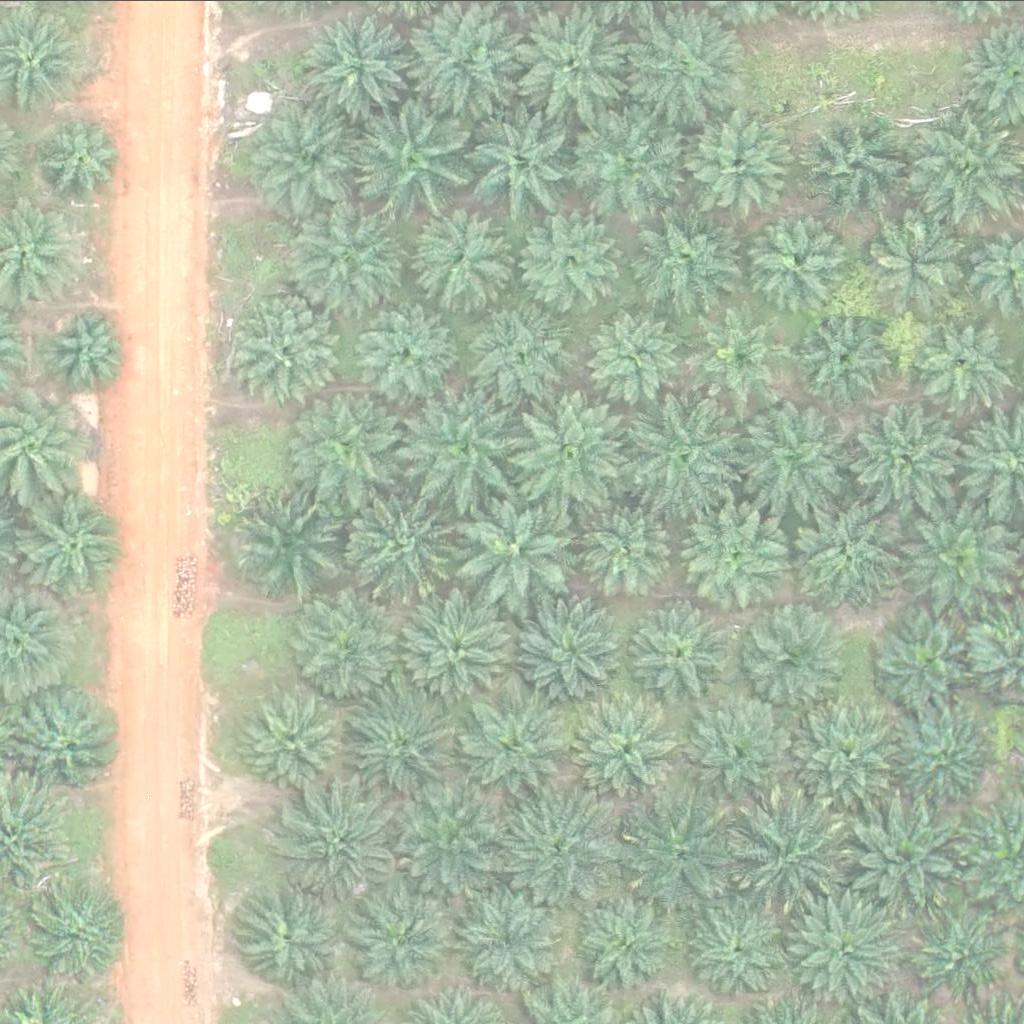Kelapa_Sawit: (302, 5, 416, 118), (511, 5, 625, 118), (571, 106, 685, 219), (512, 389, 626, 502), (456, 492, 570, 605), (461, 684, 575, 797), (854, 797, 968, 910), (416, 9, 529, 122), (630, 12, 743, 125), (353, 99, 466, 212), (627, 201, 740, 314), (234, 292, 347, 405), (295, 394, 408, 507), (903, 502, 1016, 615), (787, 495, 900, 608), (676, 503, 789, 616), (291, 591, 404, 704), (395, 590, 508, 703), (627, 597, 740, 710), (735, 602, 848, 715), (869, 605, 982, 718), (793, 704, 906, 817), (350, 693, 463, 806), (396, 779, 509, 892), (500, 799, 613, 912), (343, 881, 456, 994), (18, 489, 131, 602), (291, 196, 405, 308), (741, 395, 855, 507), (569, 687, 683, 799), (233, 884, 347, 996), (691, 100, 804, 212), (466, 106, 579, 218), (254, 102, 367, 214), (794, 112, 907, 224), (462, 302, 575, 414), (410, 392, 523, 504), (630, 396, 743, 508), (847, 399, 960, 511), (231, 483, 344, 595), (342, 490, 455, 602), (520, 597, 633, 709), (681, 694, 794, 806), (284, 786, 397, 898), (624, 793, 737, 905), (737, 792, 850, 904), (790, 891, 903, 1003), (12, 687, 125, 799), (407, 206, 508, 306), (753, 206, 854, 306), (864, 210, 965, 310), (788, 303, 889, 403), (580, 309, 681, 409), (348, 304, 449, 404), (902, 703, 1003, 803), (244, 696, 345, 796), (915, 901, 1016, 1001), (682, 901, 783, 1001), (466, 888, 567, 988), (34, 882, 135, 982), (518, 207, 618, 307), (912, 310, 1012, 410), (687, 304, 787, 404), (576, 500, 676, 600), (581, 894, 681, 994), (45, 111, 133, 199), (45, 305, 133, 392)
